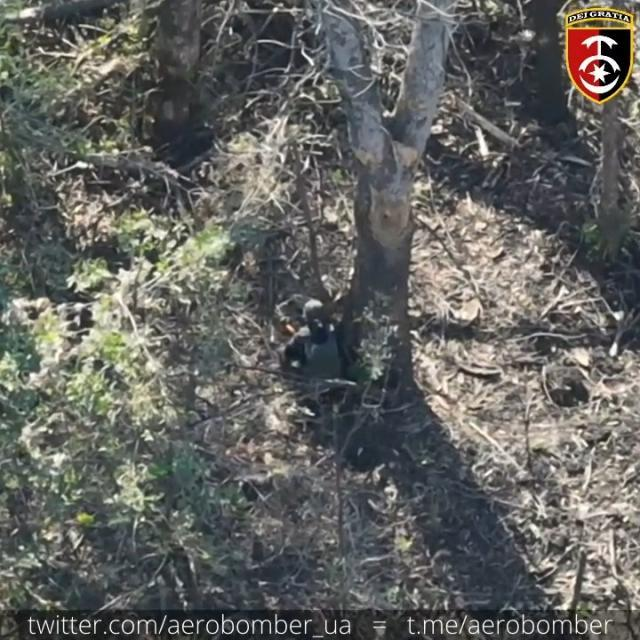MIL_Pax: (284, 299, 341, 378)
